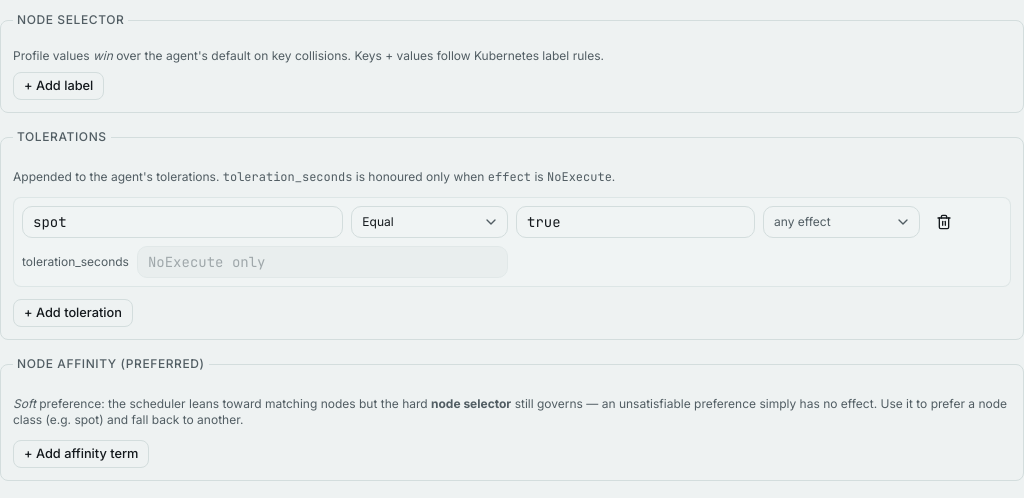
it: TolerationEditorRow selects › operator → Exists disables and clears the value field
The width and height of the screenshot is (1024, 498).
expect the field named "Toleration value" holds "true": met, box [516,206,755,238]
expect the field named "Toleration value" is enabled: met, box [516,206,755,238]
Click the dropdown named "Toleration operator" at (430, 222), box [351,206,508,238]
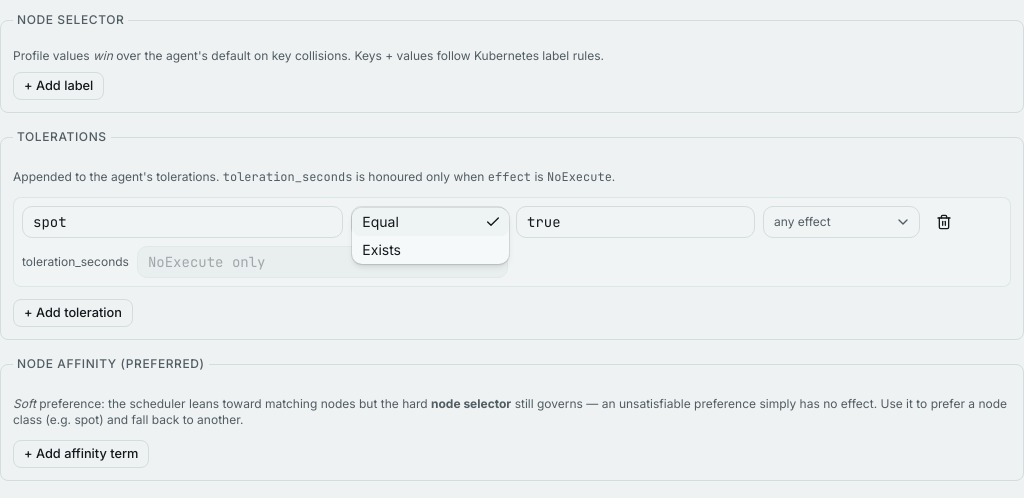
Click the option "Exists" at (382, 250), box [362,241,401,258]
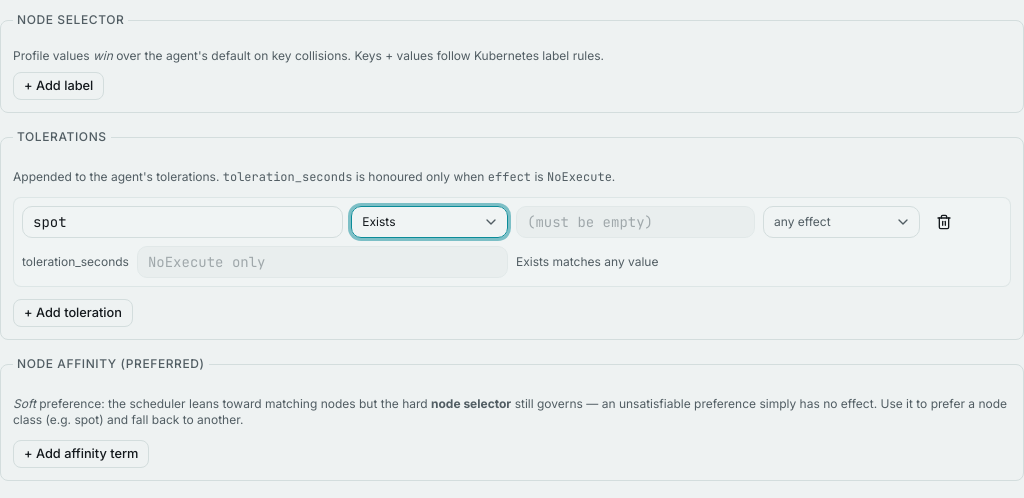
expect the field named "Toleration value" is disabled: met, box [516,206,755,238]
expect the field named "Toleration value" is empty: met, box [516,206,755,238]
